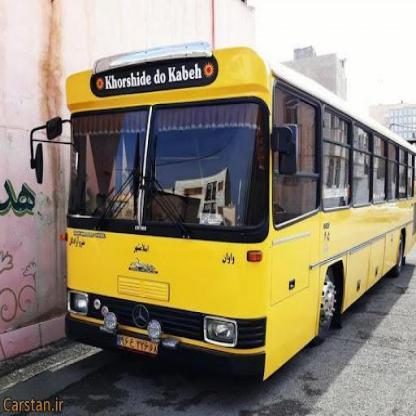Bus: (24, 18, 416, 402)
